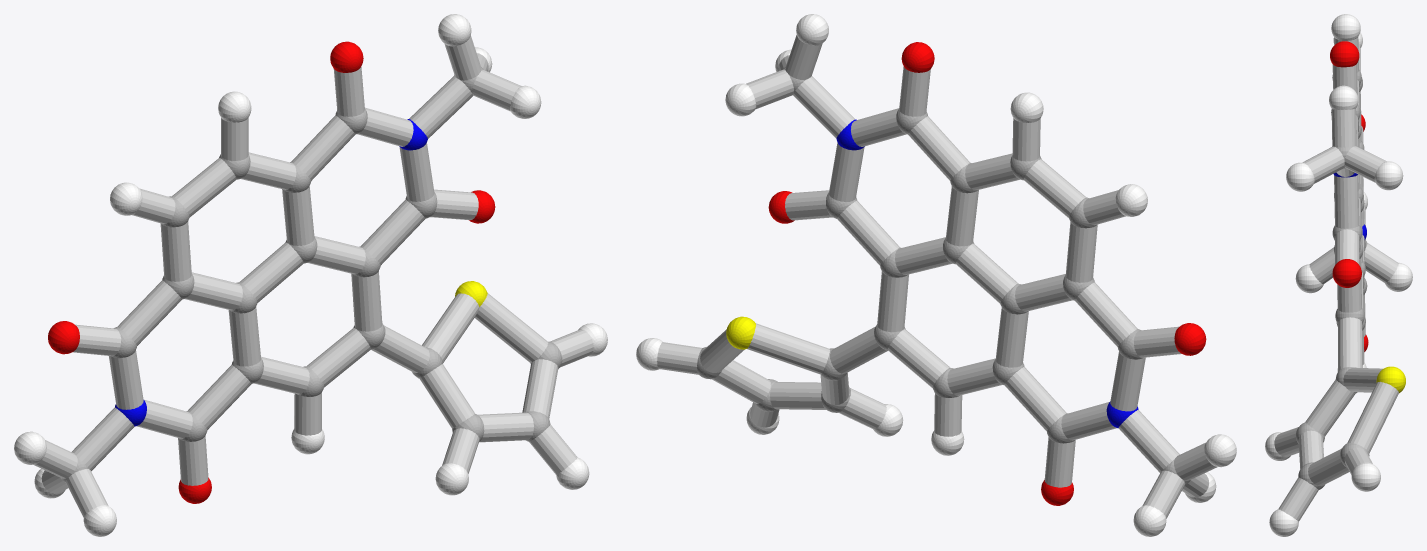
Rendered from Dimethyl_Naphthalene_Dicarboximide_Phi_15_Theta_140_Thiophene.glb.
The picture shows the model from 3 angles, left to right: view 1: azimuth 30°, elevation 25°; view 2: azimuth 150°, elevation 25°; view 3: azimuth 270°, elevation 25°; orthographic projection. The views are drawn at different scales.
Parts seen in each view (by area): view 1: grp14119, grp7241, grp1, grp12309, grp11585; view 2: grp14119, grp7241, grp1, grp12309, grp13757, grp11585; view 3: grp14119, grp7241, grp1, grp12309, grp13757.
Part boxes in pixels (bbox=[...]): grp14119: bbox=[33, 35, 593, 517]; grp7241: bbox=[14, 14, 607, 536]; grp1: bbox=[61, 67, 562, 482]; grp12309: bbox=[48, 41, 495, 503]; grp11585: bbox=[115, 119, 427, 426]; grp14119: bbox=[657, 35, 1217, 518]; grp7241: bbox=[636, 14, 1236, 536]; grp1: bbox=[697, 67, 1190, 485]; grp12309: bbox=[768, 42, 1206, 505]; grp13757: bbox=[726, 316, 755, 349]; grp11585: bbox=[836, 119, 1138, 428]; grp14119: bbox=[1274, 37, 1398, 521]; grp7241: bbox=[1265, 14, 1412, 536]; grp1: bbox=[1295, 70, 1369, 489]; grp12309: bbox=[1330, 41, 1368, 351]; grp13757: bbox=[1376, 366, 1405, 393].
Bounding box in the file's own units: 12.37 × 9.28 × 3.01.
